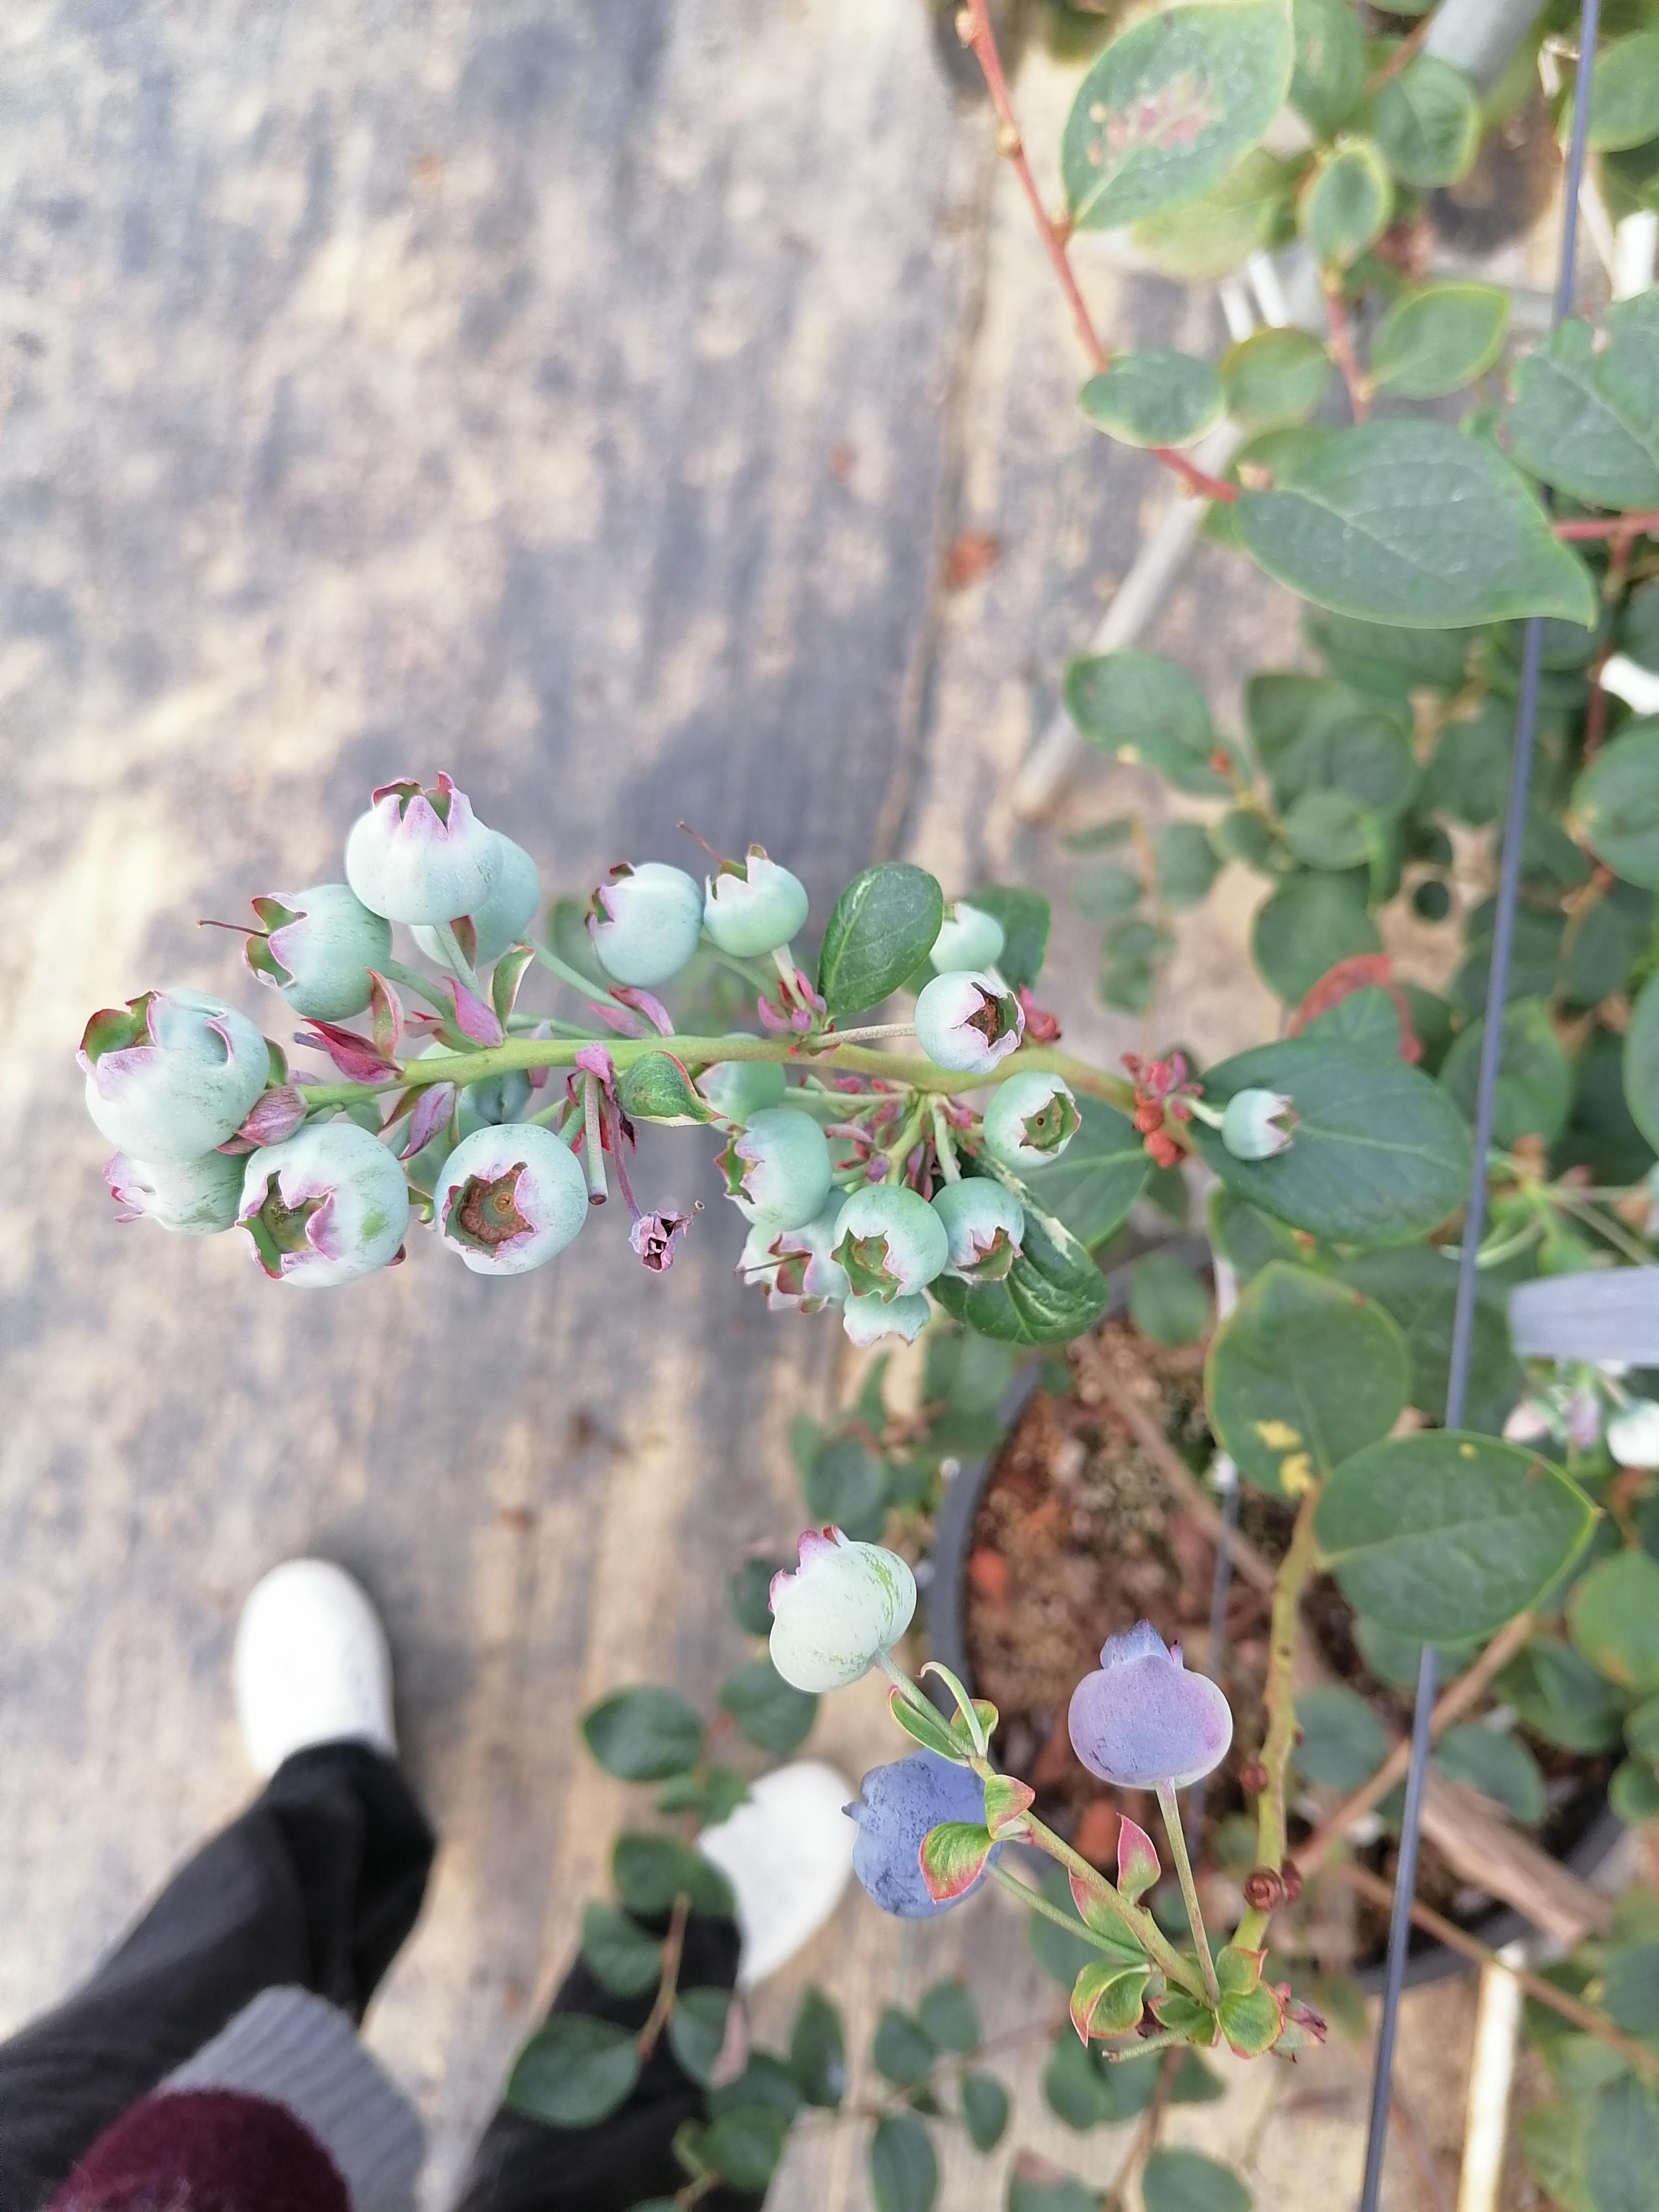ripe-blueberries: (840, 1737, 1006, 1918)
